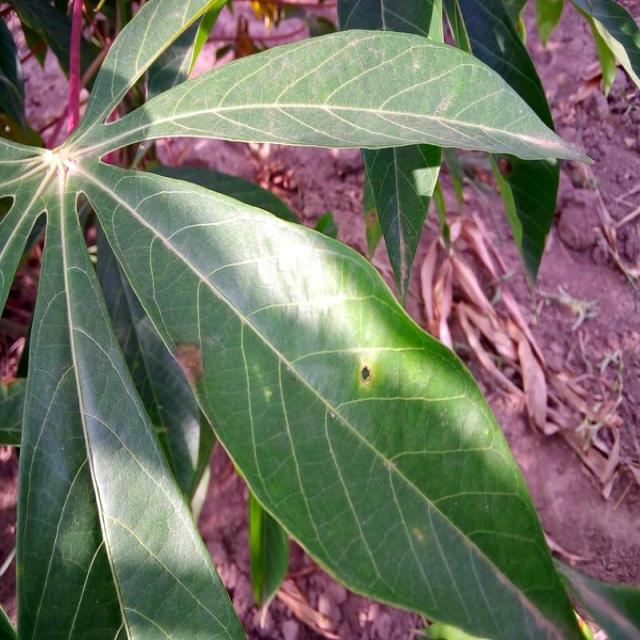cassava leaf: (72, 157, 590, 638), (79, 26, 595, 166)
